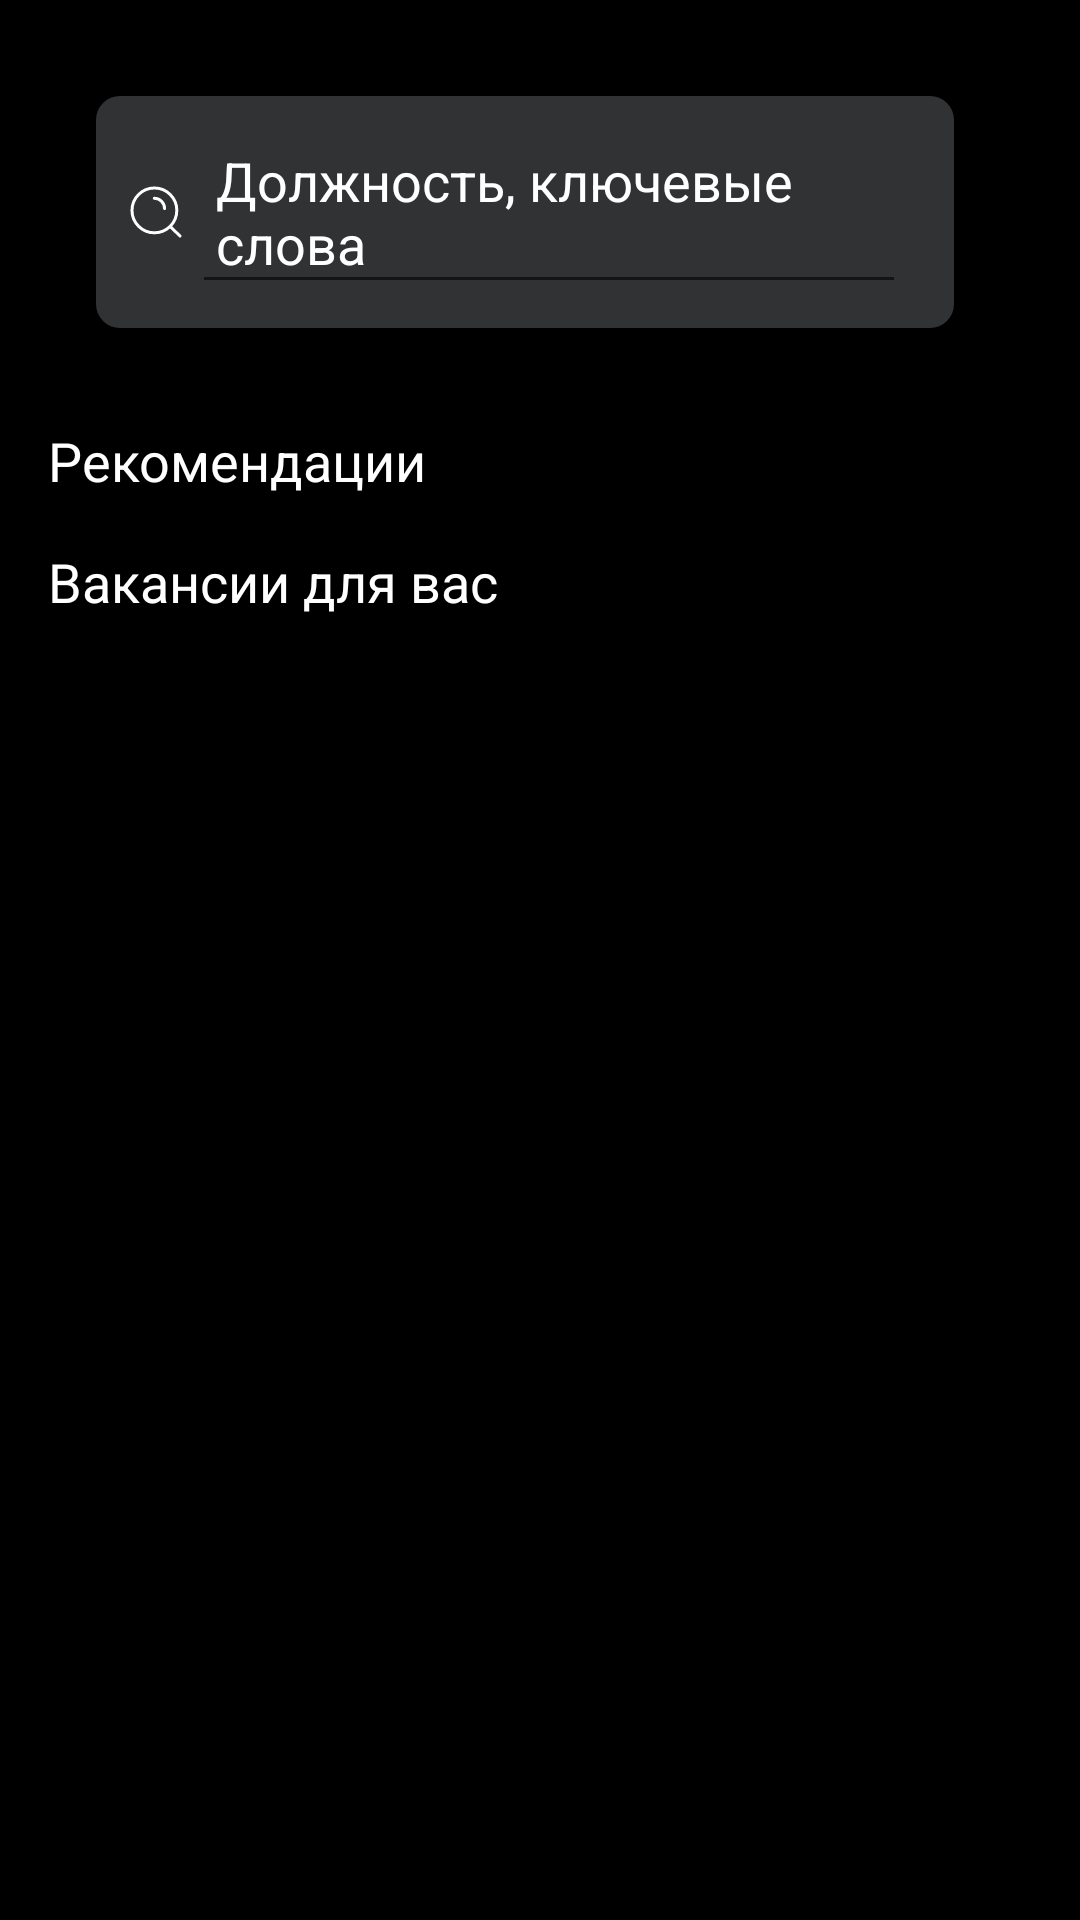

Icon click points for this 1080 × 1920 phone screenshot, format point (x, y):
search: point (156, 212)
